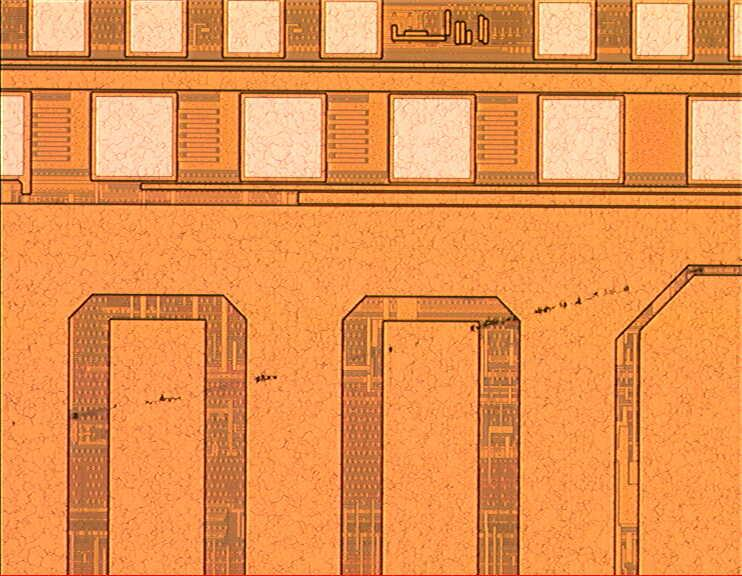SCRATCH: (1, 250, 742, 442)
